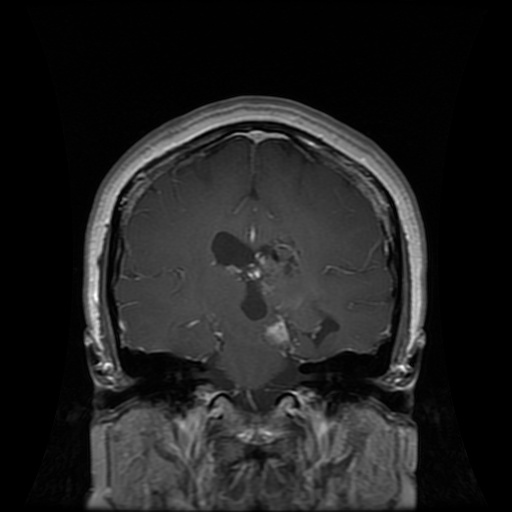glioma: (210, 232, 301, 316)
